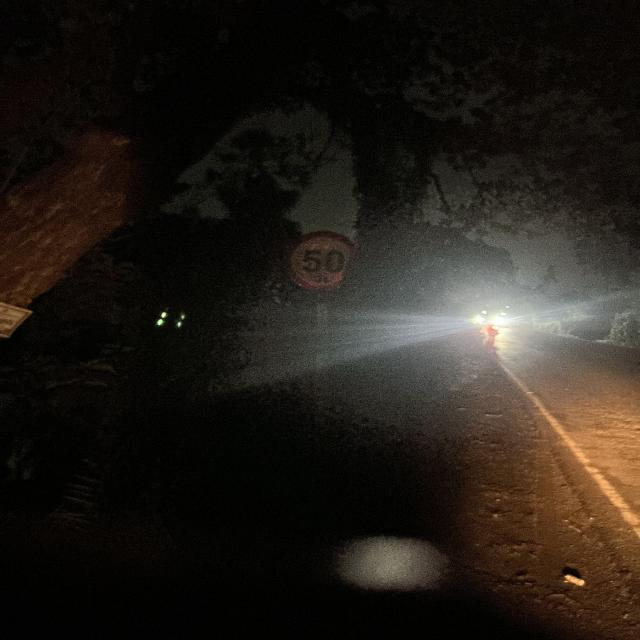speed limit 50: (287, 230, 362, 289)
